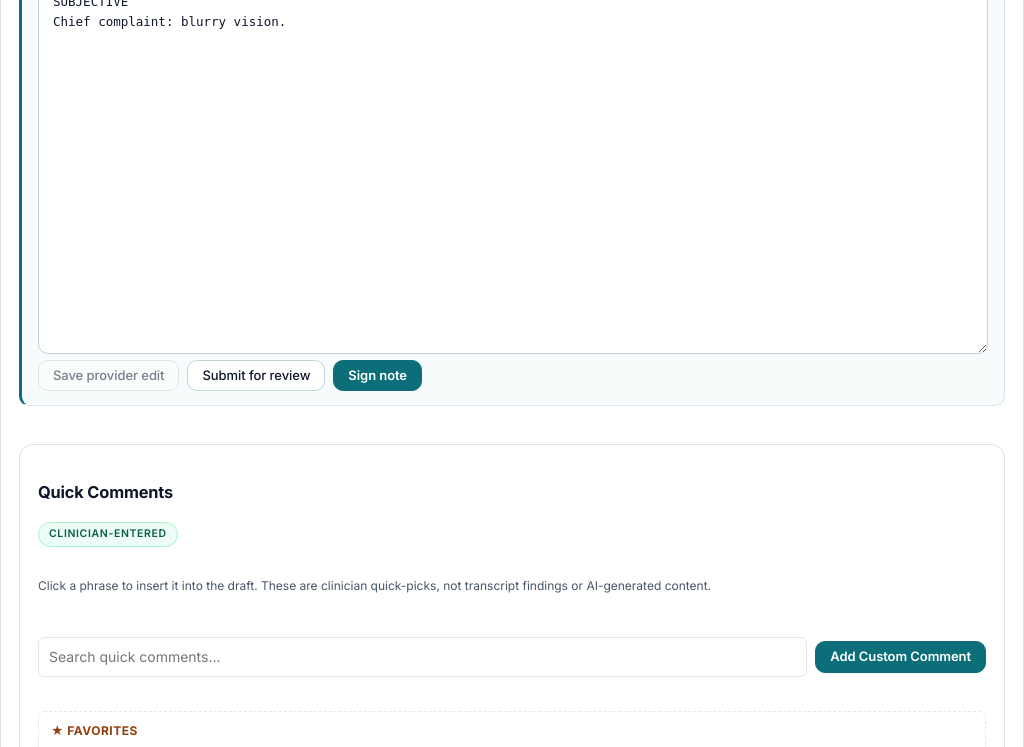
NoteWorkspace › submits for review and then clinician can sign
This screenshot has width=1024, height=747.
(page scrolled)
Click the button with test id "note-submit-review" at x=256, y=375, box [187,360,325,391]
(page scrolled)
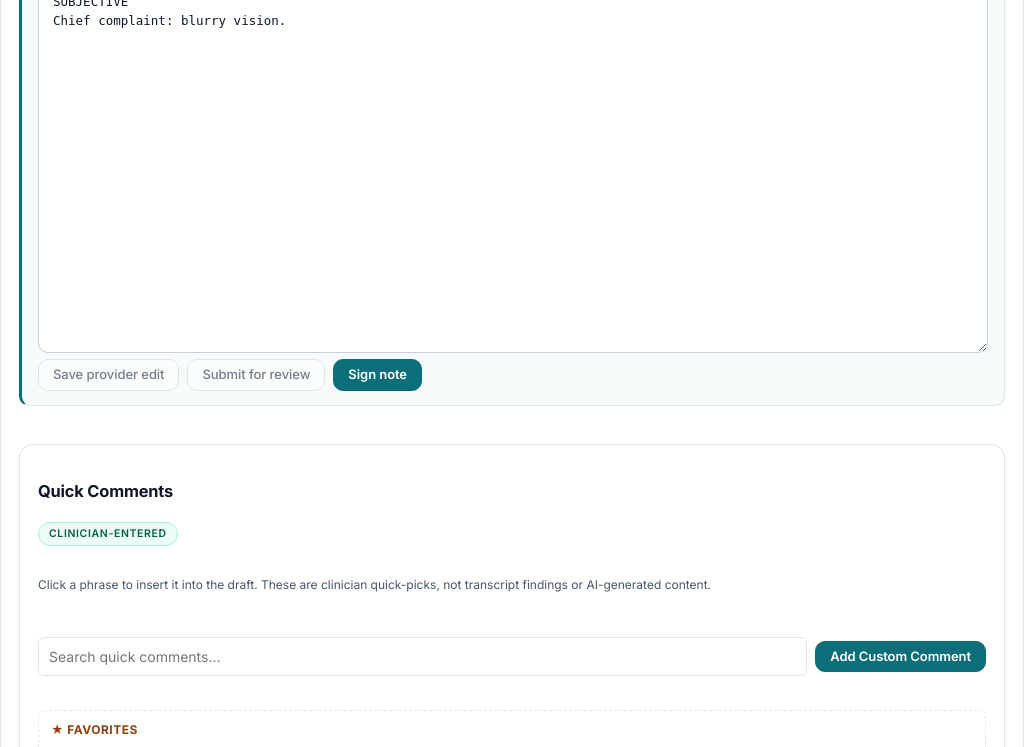
Click the button with test id "note-sign" at x=378, y=375, box [333,359,422,391]
(page scrolled)
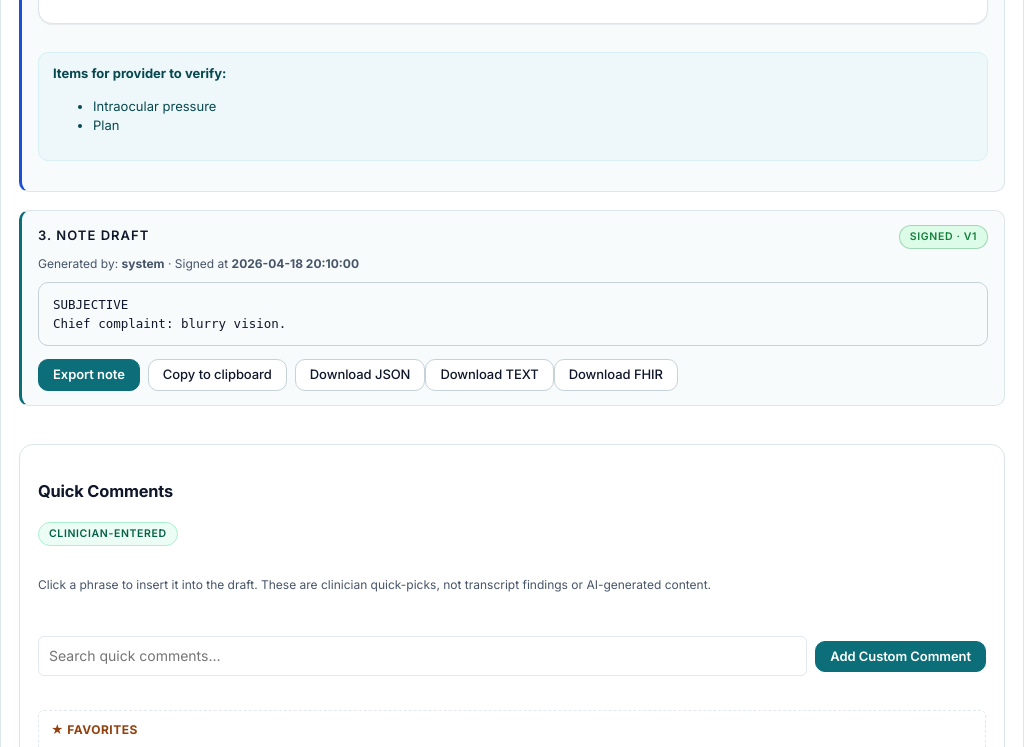
Expected: the text with test id "note-draft-status" shows "signed", [910,230,953,243]
